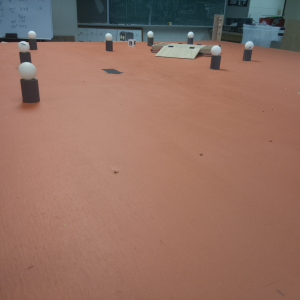obstacle: (17, 65, 39, 104), (208, 45, 223, 70), (16, 40, 30, 64), (104, 31, 117, 53), (242, 40, 254, 62), (30, 29, 41, 49), (145, 29, 154, 45), (187, 32, 196, 43)
slope: (164, 44, 198, 61)
